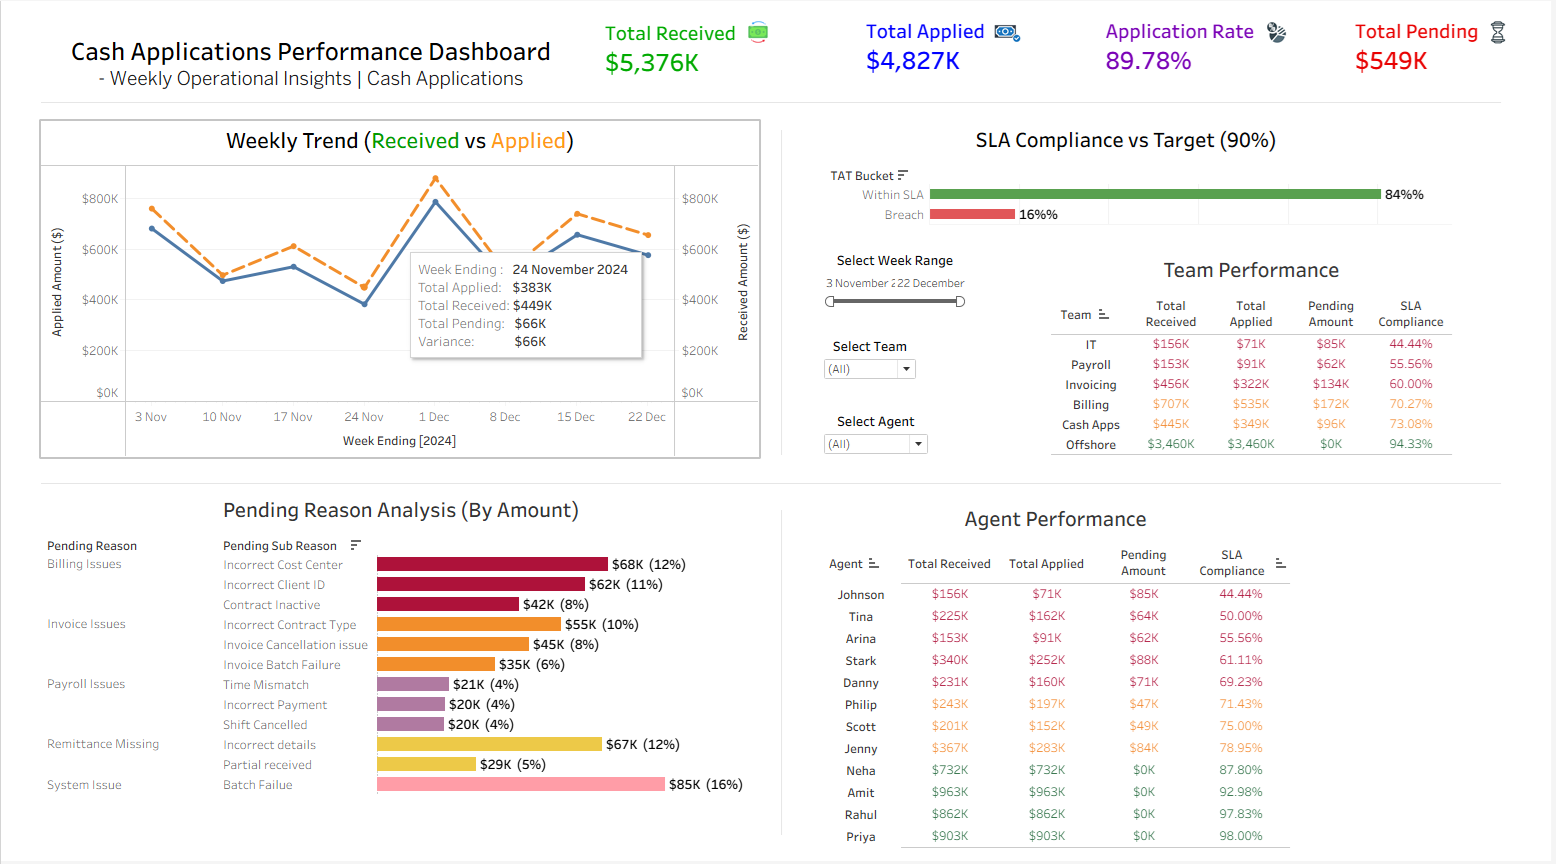

Layout of this report page (visuals, bound fields, positions):
{"tool":"tableau","page":{"name":"Dashboard 1","canvas":[1000,1000],"units":"permille","ordinal":0},"visuals":[{"type":"image","param":"Image/Image- Total Applied.jpeg","box":[638.1,15.1,19.4,46.5]},{"type":"image","param":"Image/Image-Total Received.jpeg","box":[478.7,16.3,19.4,34.9]},{"type":"text","box":[25.8,18.6,348.4,104.7]},{"type":"worksheet","title":"Total Received","mark":"Text","box":[387.1,18.6,135.5,104.7]},{"type":"worksheet","title":"Total Applied","mark":"Automatic","box":[555.5,18.6,135.5,104.7]},{"type":"worksheet","title":"Application Rate","mark":"Automatic","box":[709.7,18.6,135.5,104.7]},{"type":"image","param":"Image/Image- Application rate.jpeg","box":[812.9,18.6,19.4,34.9]},{"type":"image","param":"Image/Image-Total Pending.jpeg","box":[958.1,20.9,19.4,29.1]},{"type":"blank","box":[25.8,117.4,941.9,1.2]},{"type":"worksheet","title":"Weekly Trend","mark":"Line","rows":["Calculation_1283464877477888","Calculation_1283464880144386"],"cols":["Week_Ending (Dim_Date.csv)"],"box":[25.8,139.5,463.2,390.7]},{"type":"worksheet","title":"SLA Compliance ","mark":"Automatic","rows":["TAT_Bucket"],"cols":["Payment_ID"],"box":[516.1,139.5,460,144.2]},{"type":"blank","box":[503.2,150,0.7,377.9]},{"type":"filter","title":"Weekly Trend","param":"[federated.0hyamtn0j61uck1a8xni10q1xgcz].[twk:Week_Ending (Dim_Date.csv):qk]","box":[529,290.7,95.5,97.7]},{"type":"worksheet","title":"Team Performance","mark":"Text","rows":["Team"],"box":[677.4,290.7,271,261.6]},{"type":"filter","title":"Weekly Trend","param":"[federated.0hyamtn0j61uck1a8xni10q1xgcz].[none:Team:nk]","box":[529,390.7,63.2,64]},{"type":"filter","title":"Team Performance","param":"[federated.0hyamtn0j61uck1a8xni10q1xgcz].[none:Agent:nk]","box":[529,477.9,71,80.2]},{"type":"blank","box":[25.8,560.5,941.9,1.2]},{"type":"worksheet","title":"Pending Analysis","mark":"Bar","rows":["Pending_Reason","Pending_Sub Reason"],"cols":["Amount"],"box":[25.8,569.8,464.5,407]},{"type":"worksheet","title":"Agent Performance","mark":"Text","rows":["Agent"],"box":[529,580.2,327.1,407]},{"type":"blank","box":[503.2,591.9,0.7,377.9]}]}

Visuals, with their boxes on the dashboard's canvas, which has no fixed pixel size, in thousandths of its width and height (x1, y1, x2, y2). These are canvas units, not pixel positions in the 1556x864 screenshot, which may show the page scaled, cropped or inside an application window:
image: box=[638, 15, 658, 62]
image: box=[479, 16, 498, 51]
text: box=[26, 19, 374, 123]
"Total Received" worksheet (Text marks): box=[387, 19, 523, 123]
"Total Applied" worksheet: box=[556, 19, 691, 123]
"Application Rate" worksheet: box=[710, 19, 845, 123]
image: box=[813, 19, 832, 54]
image: box=[958, 21, 978, 50]
blank: box=[26, 117, 968, 119]
"Weekly Trend" worksheet (Line marks): box=[26, 140, 489, 530]
"SLA Compliance " worksheet: box=[516, 140, 976, 284]
blank: box=[503, 150, 504, 528]
"Weekly Trend" filter: box=[529, 291, 624, 388]
"Team Performance" worksheet (Text marks): box=[677, 291, 948, 552]
"Weekly Trend" filter: box=[529, 391, 592, 455]
"Team Performance" filter: box=[529, 478, 600, 558]
blank: box=[26, 560, 968, 562]
"Pending Analysis" worksheet (Bar marks): box=[26, 570, 490, 977]
"Agent Performance" worksheet (Text marks): box=[529, 580, 856, 987]
blank: box=[503, 592, 504, 970]
